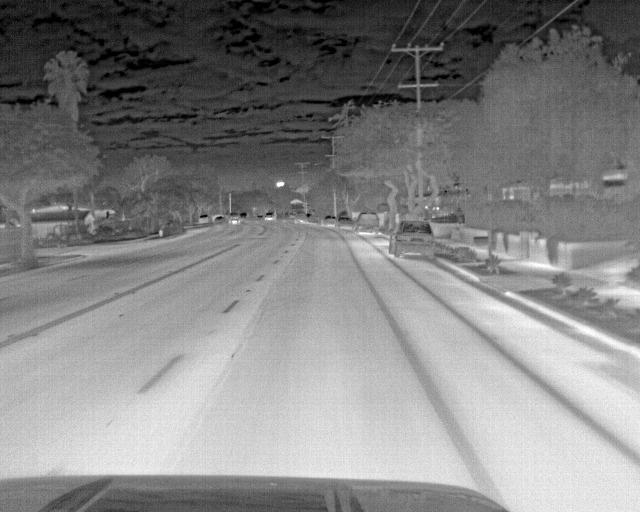car: (386, 220, 437, 260), (355, 210, 382, 234), (335, 213, 356, 230), (318, 214, 338, 230), (227, 212, 245, 227), (196, 213, 212, 226), (262, 210, 277, 222), (211, 213, 225, 225)
